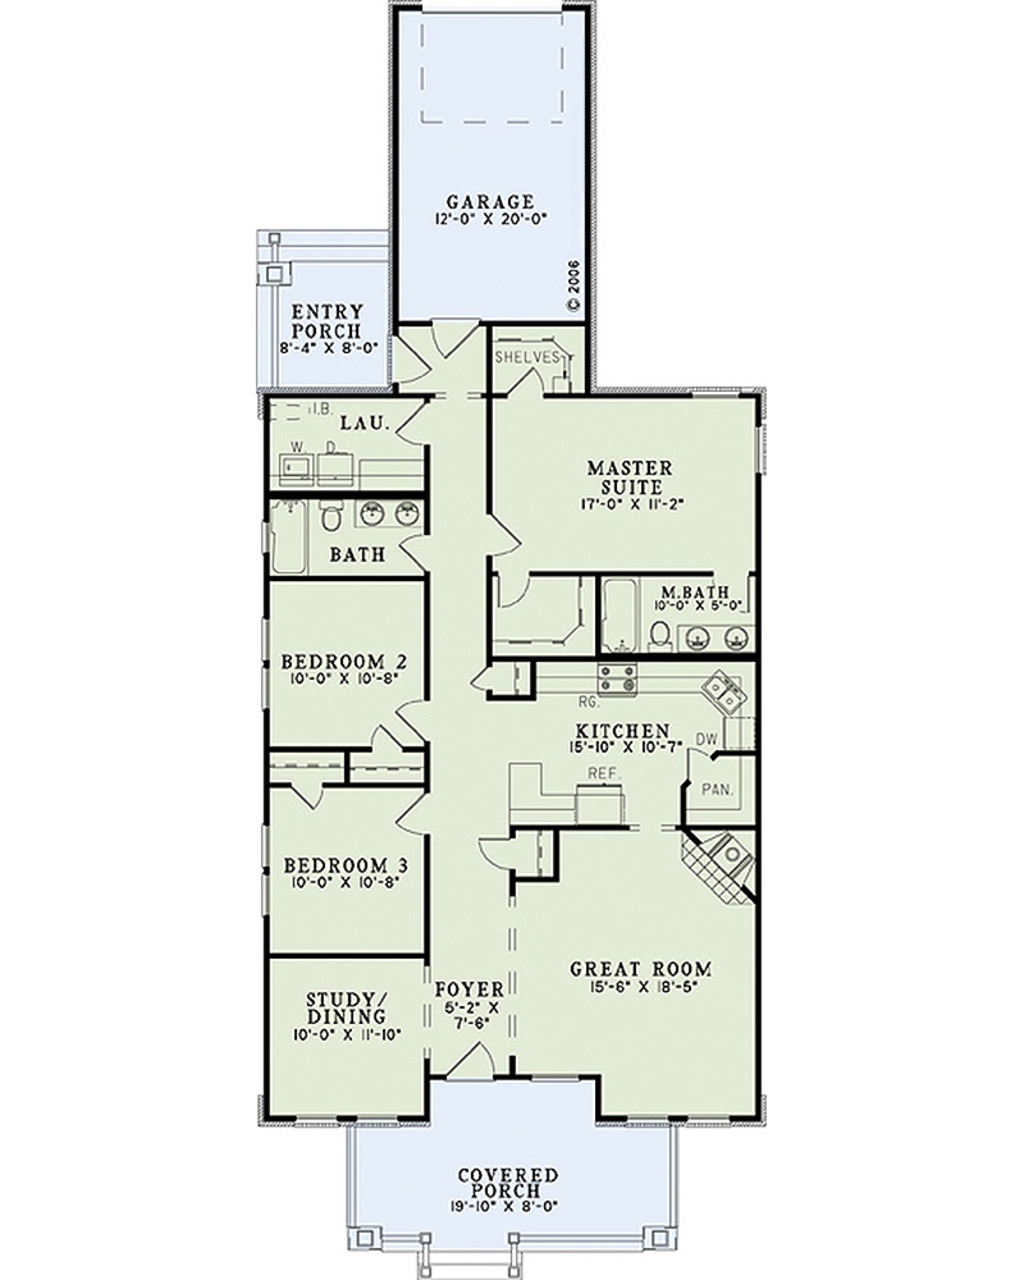door: (436, 1033, 502, 1089), (385, 325, 438, 387), (428, 315, 482, 359), (502, 353, 544, 403), (472, 515, 523, 555), (394, 685, 430, 741), (398, 408, 440, 451), (294, 773, 334, 817), (398, 529, 436, 575), (488, 573, 532, 609), (478, 825, 512, 871), (400, 795, 430, 831)
large_sink: (310, 495, 352, 546), (638, 613, 674, 659)
small_sink: (352, 497, 430, 529), (682, 621, 757, 653)
tub: (588, 571, 642, 655), (267, 493, 315, 573)
twin_sink: (684, 661, 750, 745)
window: (610, 1109, 738, 1131), (286, 1106, 408, 1128), (256, 817, 282, 920), (416, 1, 560, 17), (256, 609, 274, 717)
